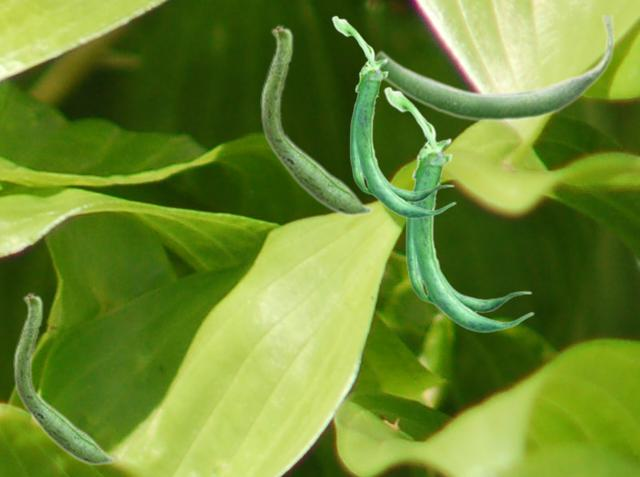french_bean: (383, 86, 533, 332), (375, 15, 614, 122), (331, 15, 455, 218), (260, 23, 372, 216), (13, 291, 114, 465)
